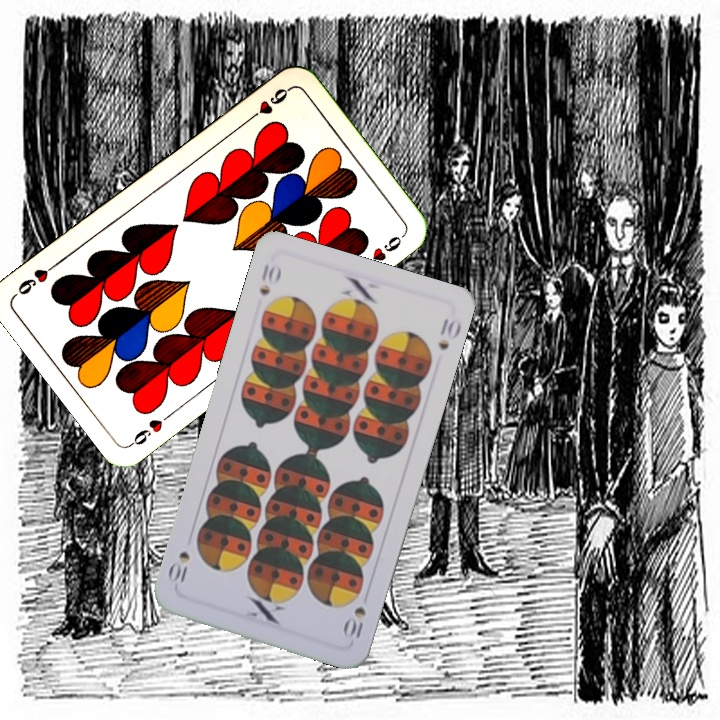H9: (243, 83, 293, 125), (126, 407, 176, 449)
S10: (339, 602, 369, 643), (255, 260, 284, 298)
